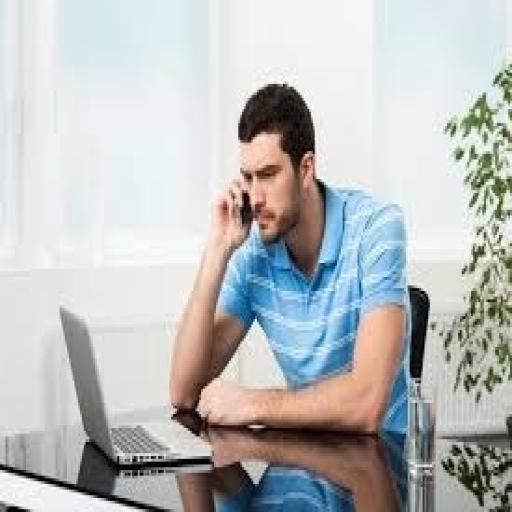calling: (166, 78, 415, 440)
